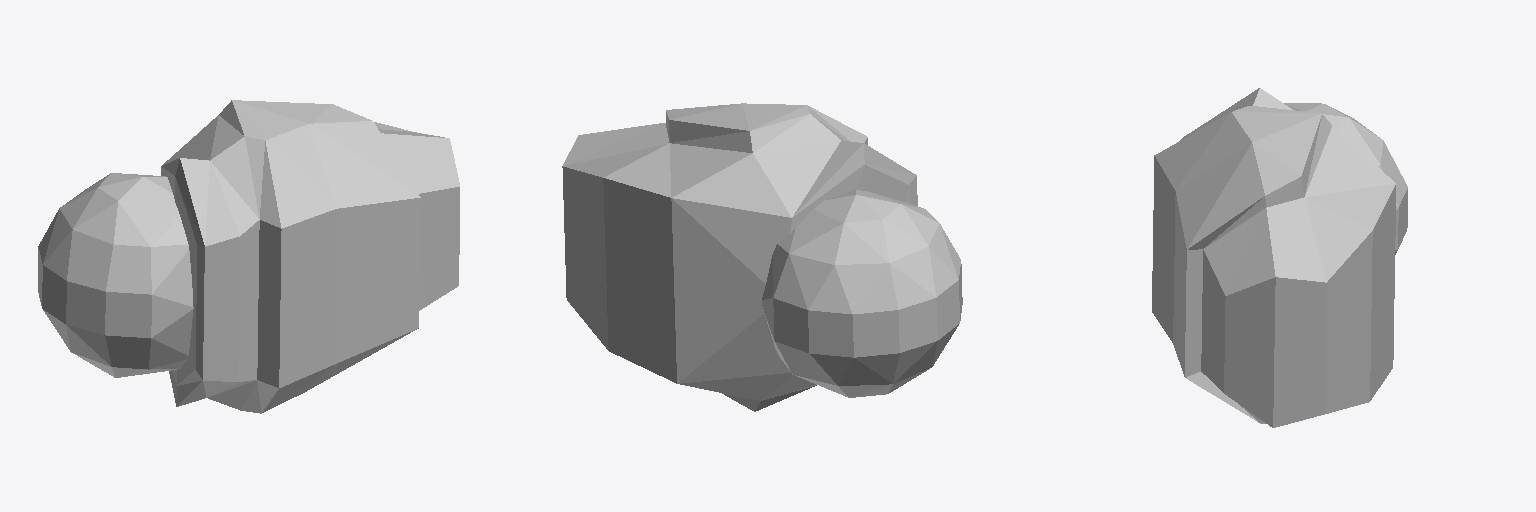
Rendered from PhalaxEnd.obj.
The picture shows the model from 3 angles: view 1: azimuth 30°, elevation 25°; view 2: azimuth 150°, elevation 25°; view 3: azimuth 270°, elevation 25°; orthographic projection.
Parts seen in each view (by area): view 1: LFinger13_PhalaxEnd; view 2: LFinger13_PhalaxEnd; view 3: LFinger13_PhalaxEnd.
Boxes of the visible parts, x1=… form: LFinger13_PhalaxEnd: x1=38, y1=100, x2=459, y2=413; LFinger13_PhalaxEnd: x1=562, y1=103, x2=962, y2=411; LFinger13_PhalaxEnd: x1=1152, y1=88, x2=1407, y2=427.
Bounding box in the file's own units: 0.0225 × 0.0158 × 0.013.